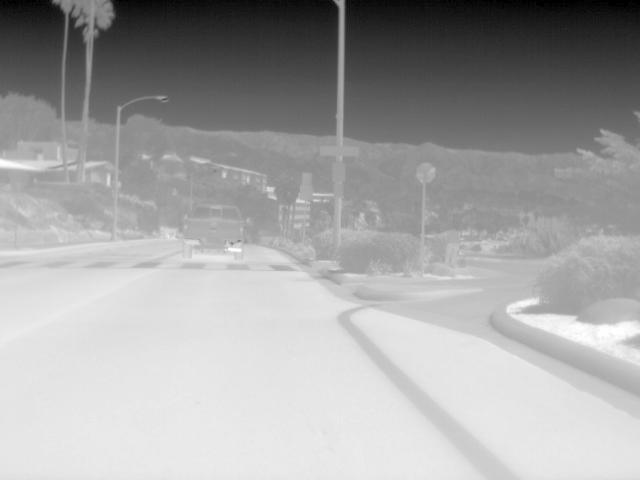car: (179, 200, 246, 260)
person: (440, 227, 461, 267)
